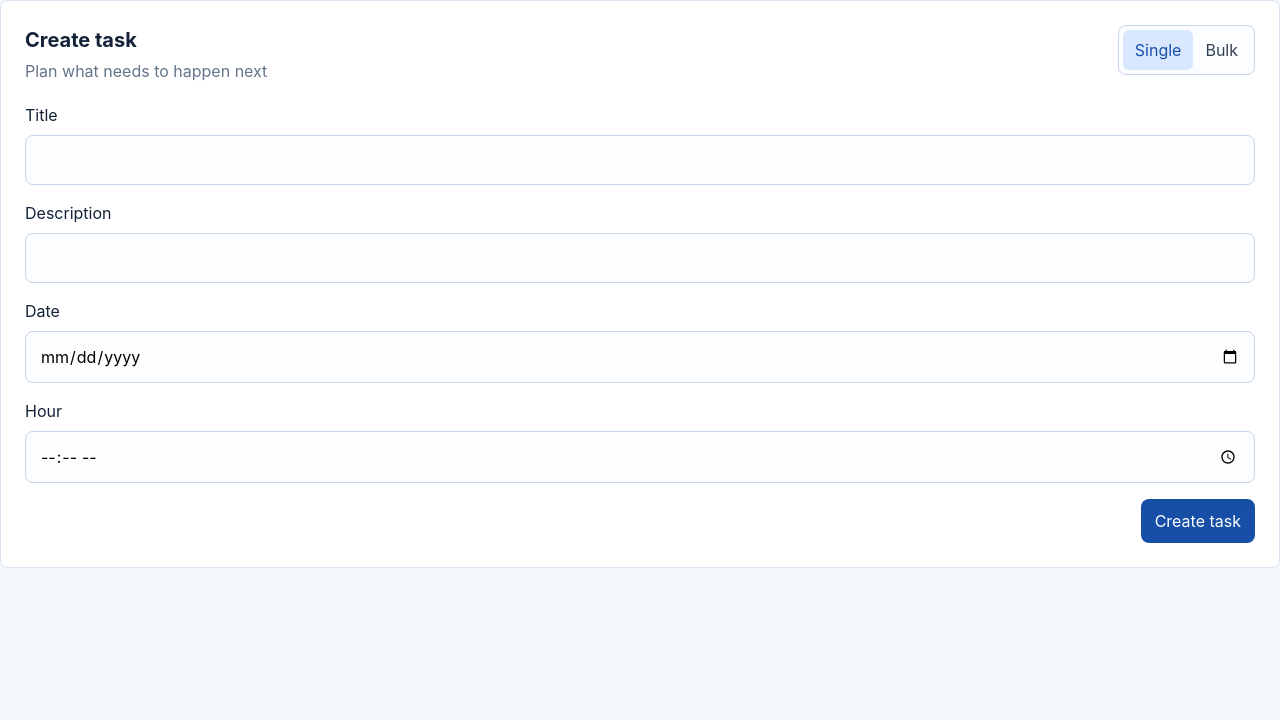
Test: TaskForm › blocks single task submission when the schedule is in the past
In the field labelled "Title": (640, 160) 25,135 -> 1255,185, type "Retro"
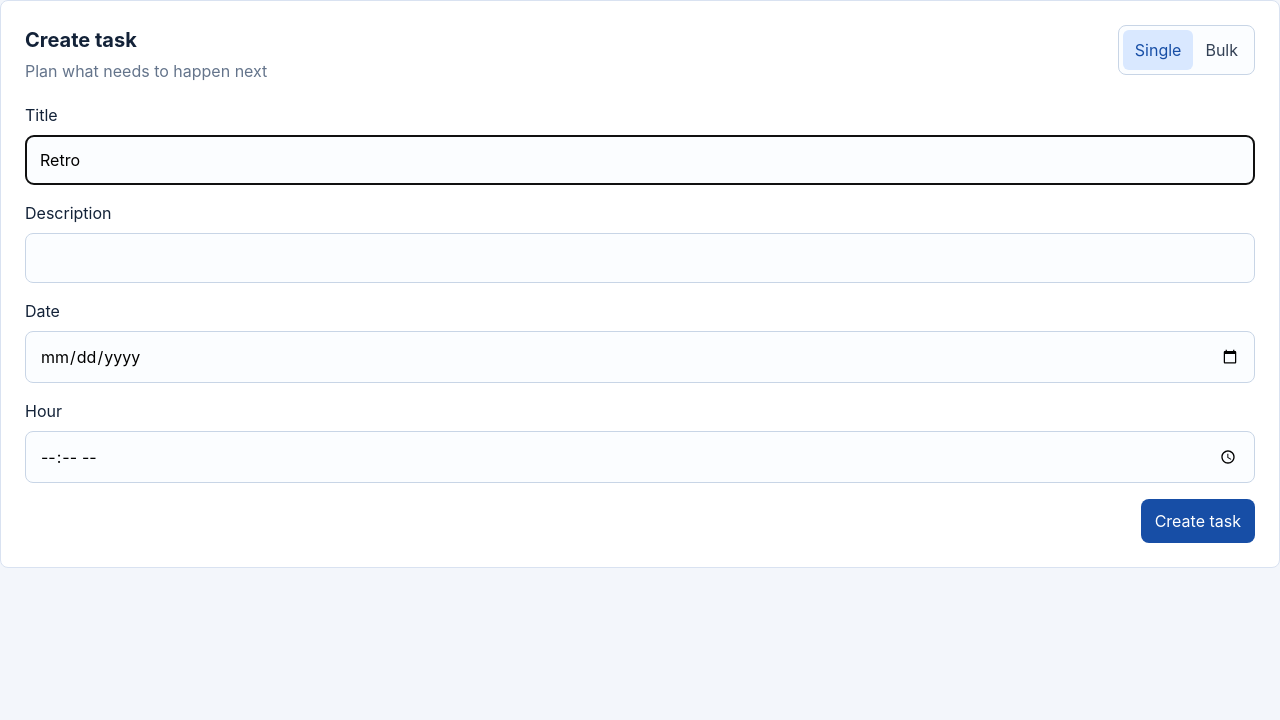
In the date field labelled "Date": (640, 357) 25,331 -> 1255,383, type "2026-05-11"
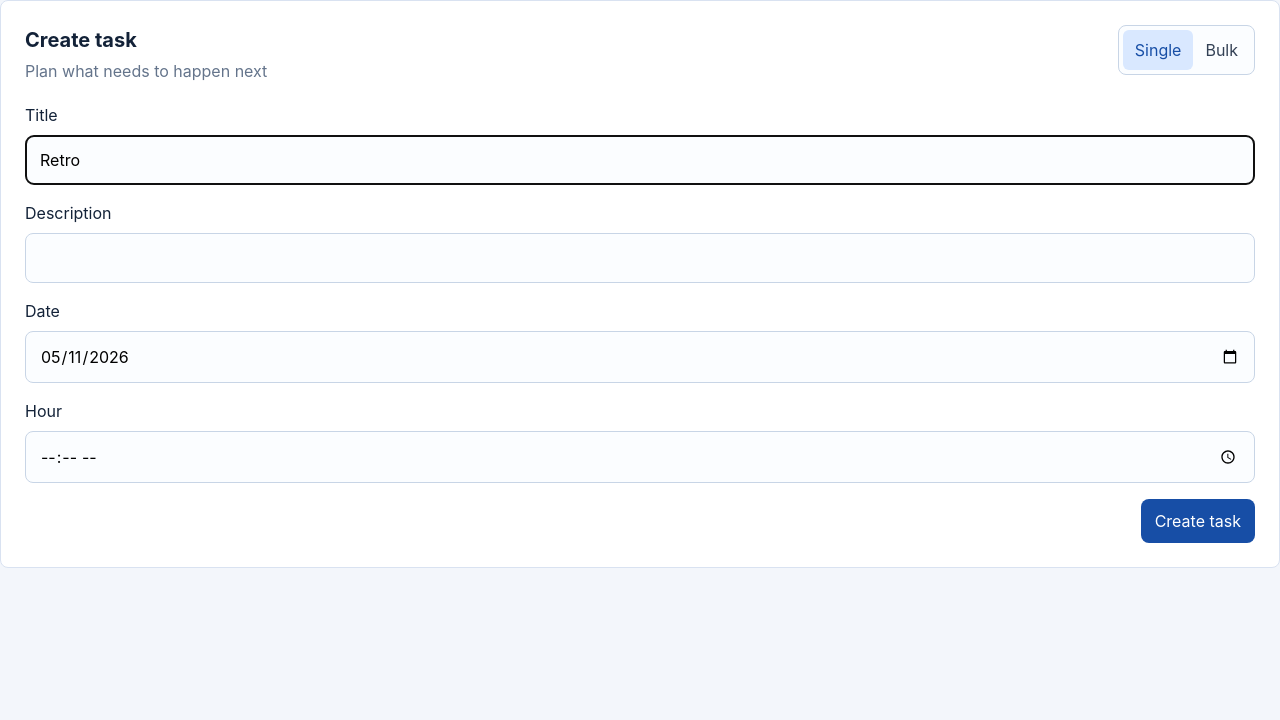
In the time field labelled "Hour": (640, 457) 25,431 -> 1255,483, type "08:00"
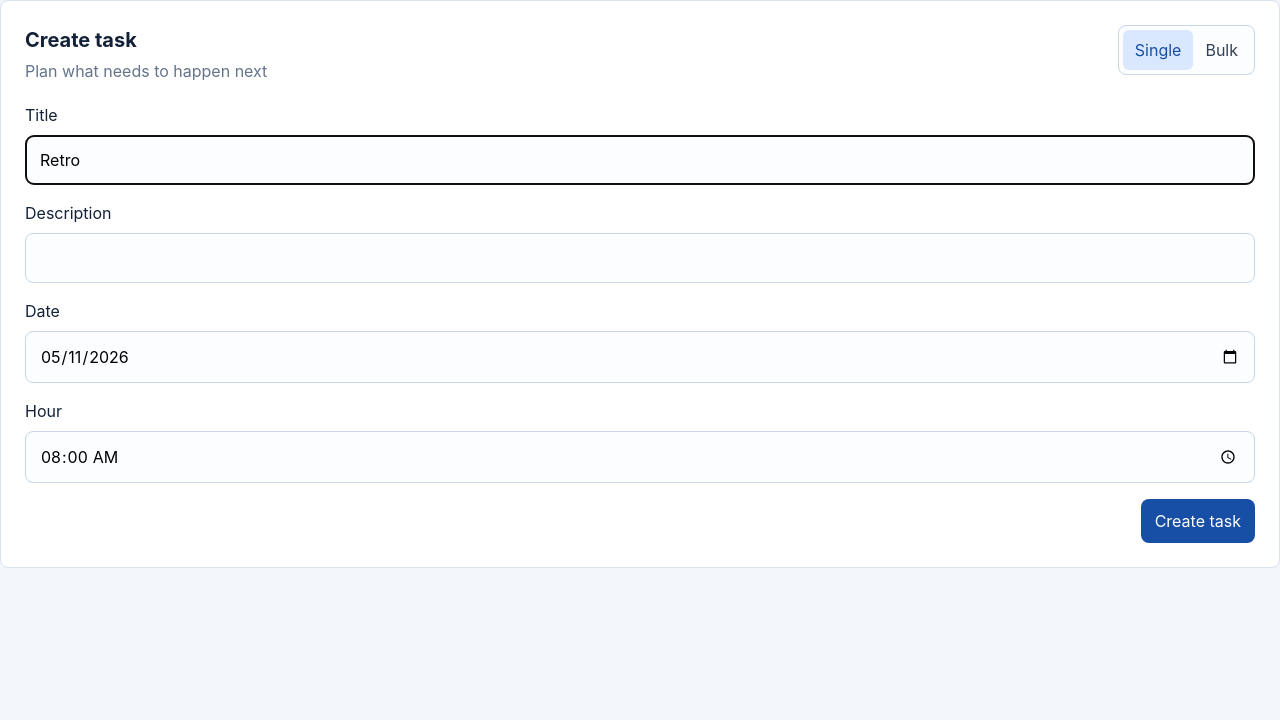
Click the button "Create task": (1198, 521) 1141,499 -> 1255,543
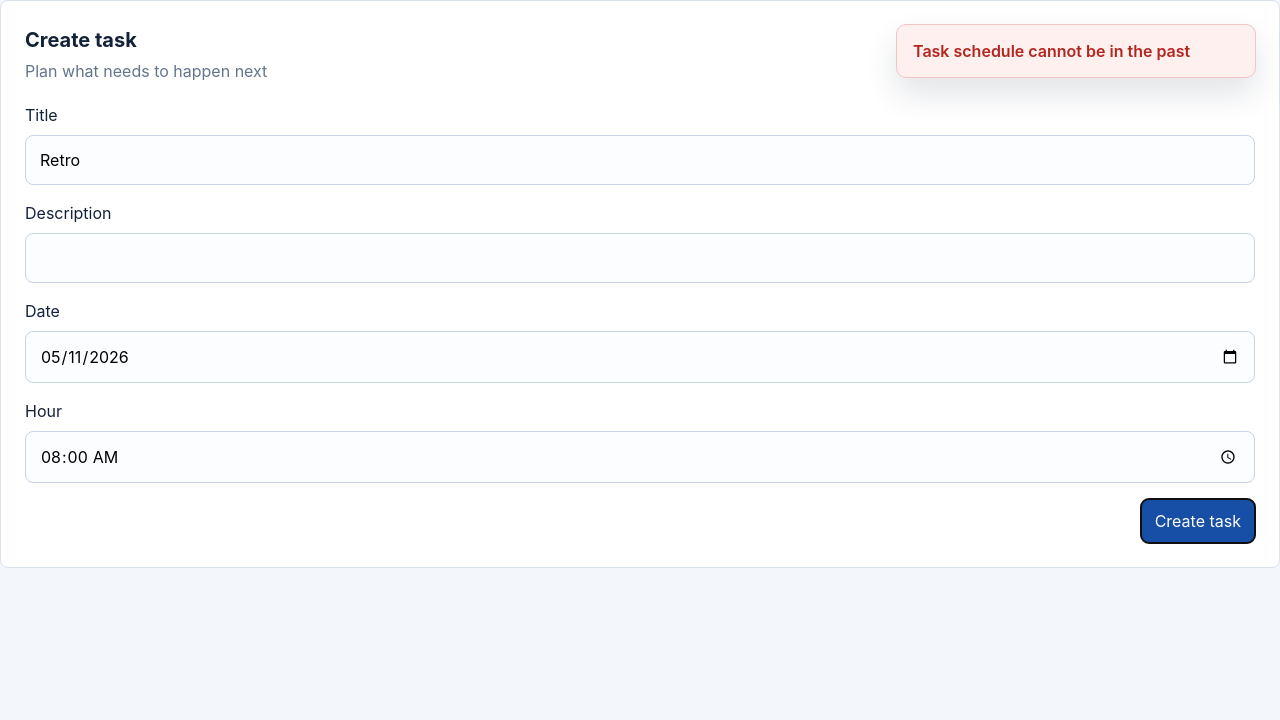
Expected: the text "Task schedule cannot be in the past" is shown, 896,24 -> 1256,78
